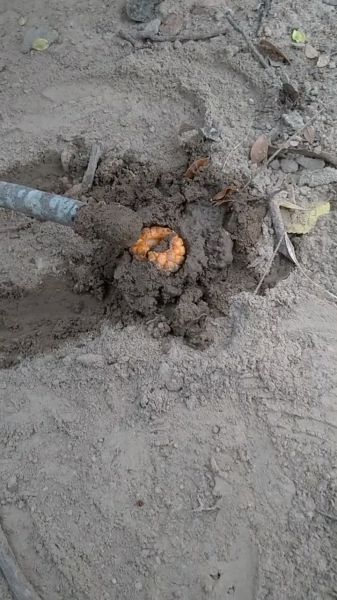eggs: (125, 223, 190, 277)
